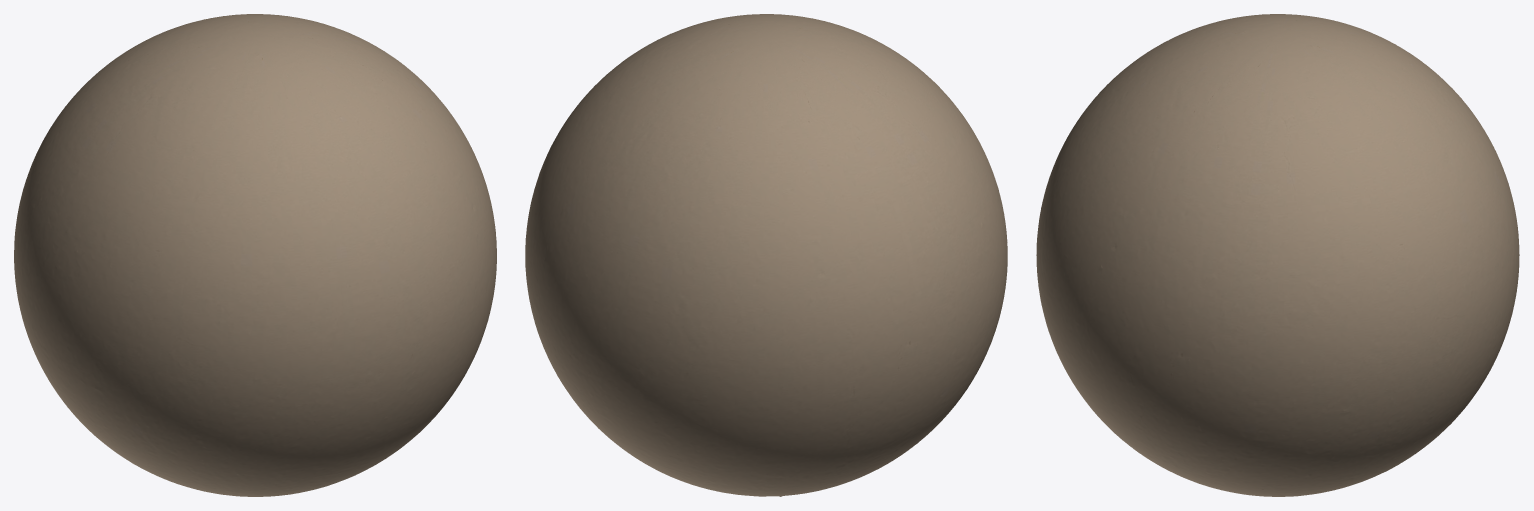
Rendered from beige_wall_001_1k.glb.
The picture shows the model from 3 angles, left to right: view 1: azimuth 30°, elevation 25°; view 2: azimuth 150°, elevation 25°; view 3: azimuth 270°, elevation 25°; orthographic projection.
Parts seen in each view (by area): view 1: sphere_gltf; view 2: sphere_gltf; view 3: sphere_gltf.
Part boxes in pixels (left/top/right/bottom): sphere_gltf: left=14, top=14, right=496, bottom=496; sphere_gltf: left=525, top=14, right=1007, bottom=496; sphere_gltf: left=1036, top=14, right=1519, bottom=496.
Size of the model in its own units: 3 by 3 by 3.
Materials: 1 (1 with a texture image).
